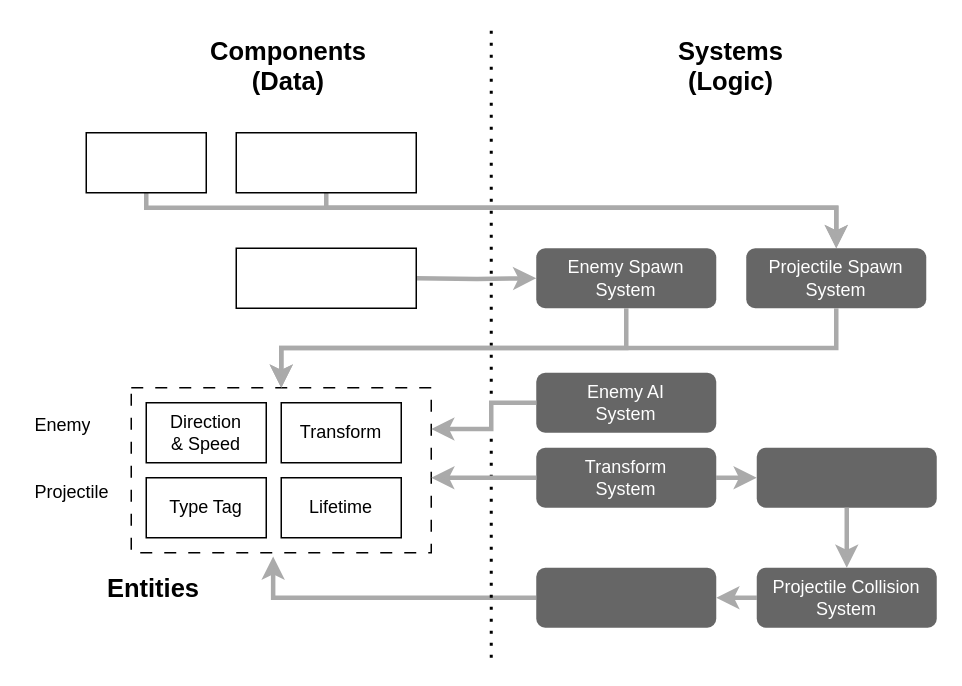
This 962x686 diagram has some shape labels left out. The shapes that lost their labels are listed below. From the top down, each one's box as (x1, y1, x2, y2) in pixels, then its label:
(85, 131, 206, 193): Player Data
(235, 131, 416, 193): Projectile Spawner Config
(235, 247, 416, 308): Enemy Spawner Config
(756, 447, 936, 507): Hash Grid System
(536, 567, 716, 627): Despawn System
